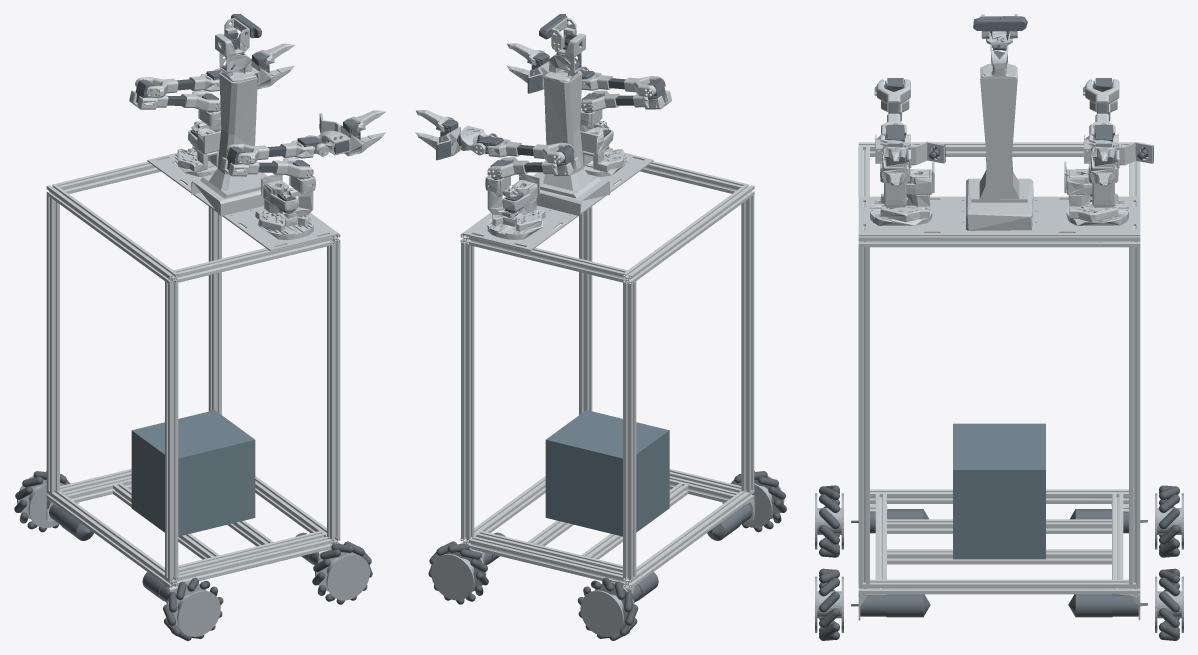
Rendered from cleany-e718ac57-standby.glb.
3 renders of one model, left to right at view 1: azimuth 30°, elevation 25°; view 2: azimuth 150°, elevation 25°; view 3: azimuth 270°, elevation 25°, orthographic. The views are drawn at different scales.
Visible parts, largest first — view 1: chassis_46, top_base_link_112, chassis_11, chassis_14, chassis_12, chassis_13, chassis_1, chassis_17, chassis_4, chassis_7, chassis_16, Base_2_80 (+19 smaller); view 2: chassis_46, top_base_link_112, chassis_12, chassis_13, chassis_11, chassis_14, chassis_1, chassis_17, chassis_4, chassis_18, chassis_3, Base_48 (+20 smaller); view 3: chassis_46, top_base_link_112, chassis_1, chassis_8, chassis_13, chassis_14, chassis_5, chassis_10, chassis_4, chassis_6, chassis_17, Base_48 (+18 smaller).
Boxes of the visible parts, bbox=[...] form: chassis_46: bbox=[131, 410, 255, 536]; top_base_link_112: bbox=[191, 52, 267, 216]; chassis_11: bbox=[165, 281, 178, 579]; chassis_14: bbox=[327, 242, 340, 539]; chassis_12: bbox=[46, 195, 59, 492]; chassis_13: bbox=[208, 206, 221, 414]; chassis_1: bbox=[147, 153, 338, 251]; chassis_17: bbox=[46, 184, 178, 284]; chassis_4: bbox=[46, 489, 178, 588]; chassis_7: bbox=[176, 536, 331, 585]; chassis_16: bbox=[173, 236, 331, 282]; Base_2_80: bbox=[255, 174, 308, 232]; chassis_46: bbox=[545, 410, 669, 536]; top_base_link_112: bbox=[533, 52, 609, 216]; chassis_12: bbox=[623, 281, 636, 579]; chassis_13: bbox=[461, 242, 474, 539]; chassis_11: bbox=[741, 195, 754, 492]; chassis_14: bbox=[579, 206, 592, 414]; chassis_1: bbox=[462, 152, 653, 251]; chassis_17: bbox=[623, 183, 754, 284]; chassis_4: bbox=[623, 489, 754, 588]; chassis_18: bbox=[469, 536, 625, 585]; chassis_3: bbox=[469, 236, 627, 282]; Base_48: bbox=[492, 174, 545, 231]; chassis_46: bbox=[953, 423, 1045, 559]; top_base_link_112: bbox=[966, 44, 1033, 230]; chassis_1: bbox=[858, 196, 1140, 236]; chassis_8: bbox=[858, 579, 1140, 594]; chassis_13: bbox=[1129, 247, 1140, 584]; chassis_14: bbox=[858, 247, 869, 584]; chassis_5: bbox=[858, 236, 1140, 247]; chassis_10: bbox=[887, 549, 1111, 564]; chassis_4: bbox=[870, 489, 1128, 503]; chassis_6: bbox=[887, 519, 1111, 533]; chassis_17: bbox=[858, 142, 1139, 156]; Base_48: bbox=[1064, 161, 1118, 222].
Size of the model in its own units: 0.5833 by 1.19 by 0.6548.
